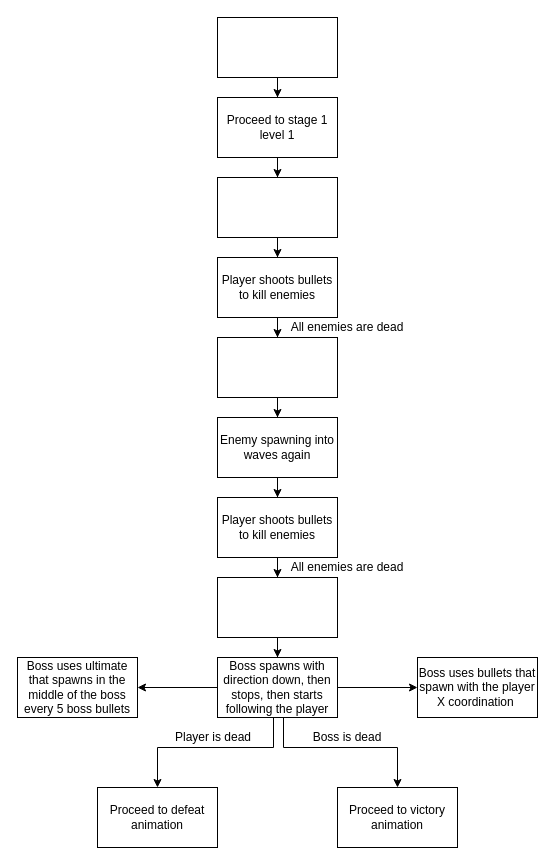
The diagram is 555 pixels wide and 865 high, and some of its shapes have lost their labels. The shapes that lost their labels are listed below. From the top down, each one's centre as x and y in pixels, then its label:
the point at 277,47: Press 'F' to start the game
the point at 277,207: Enemy spawning into waves, player gets access to controls
the point at 277,367: Proceed to stage 1 level 2
the point at 277,607: Proceed to stage 1 BOSS level
